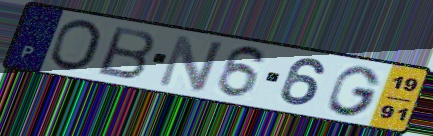6: (214, 45, 273, 100), (278, 57, 327, 108)
B: (96, 24, 158, 81)
G: (325, 64, 384, 118)
N: (153, 32, 227, 94)
O: (45, 17, 105, 73)
